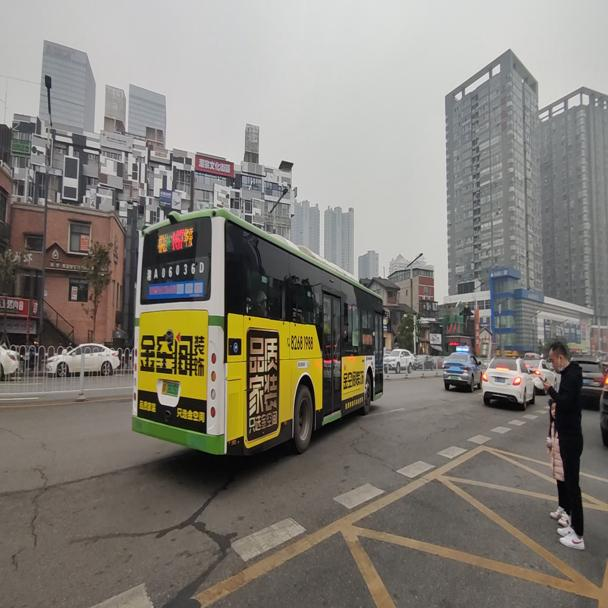bus: (126, 206, 391, 463)
screen: (170, 229, 183, 250)
